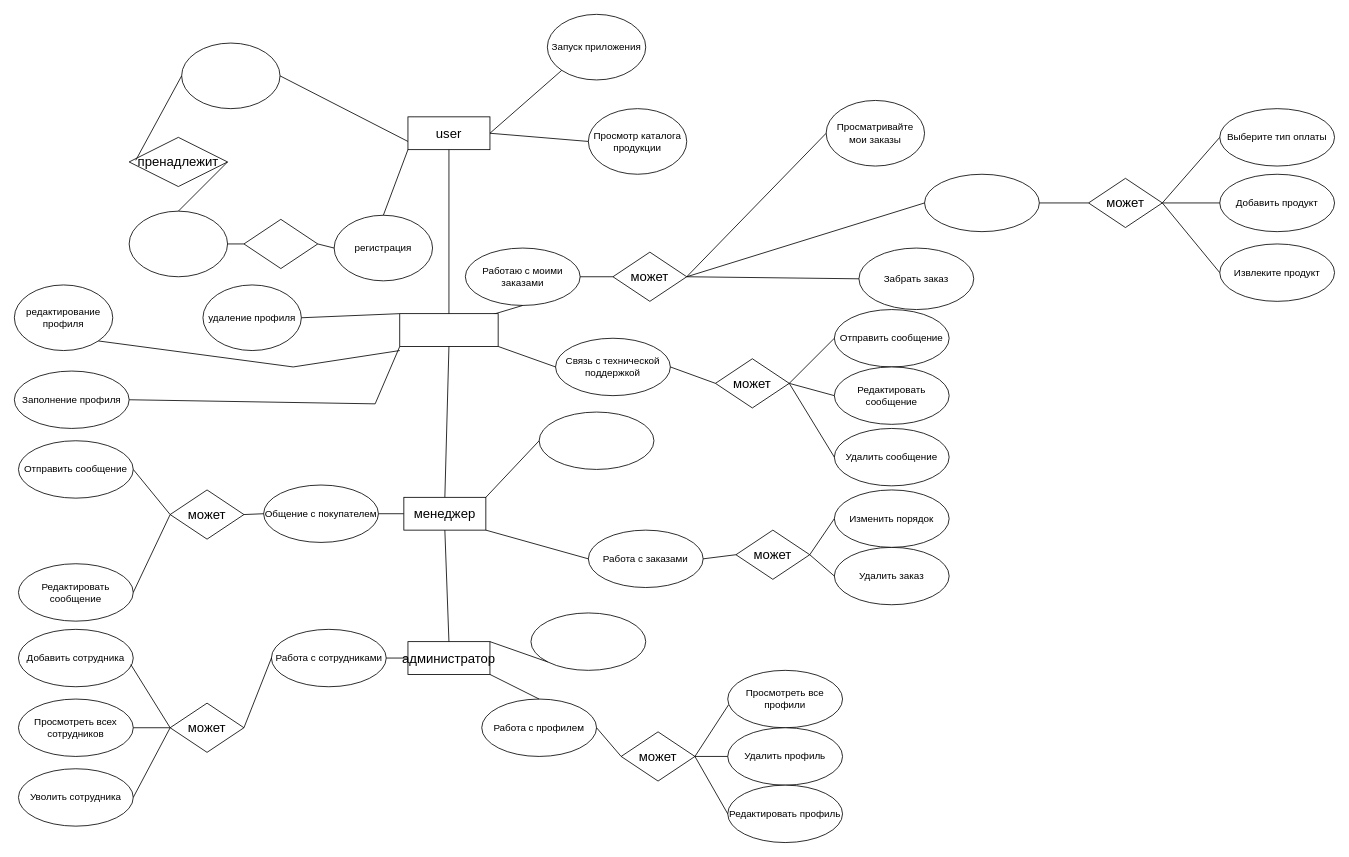
The diagram is 1349 pixels wide and 857 high, and some of its shapes have lost their labels. Here are the shapes that lost their labels. From the top down, the centre of each, then its label:
At point (230, 75): "вход".
At point (981, 202): "Сделайте заказ".
At point (178, 243): "Номер телефона для подтверждения".
At point (280, 244): "имеет".
At point (448, 329): "авторизованый user".
At point (596, 440): "Отправить заказ".
At point (588, 641): "история заказов".
